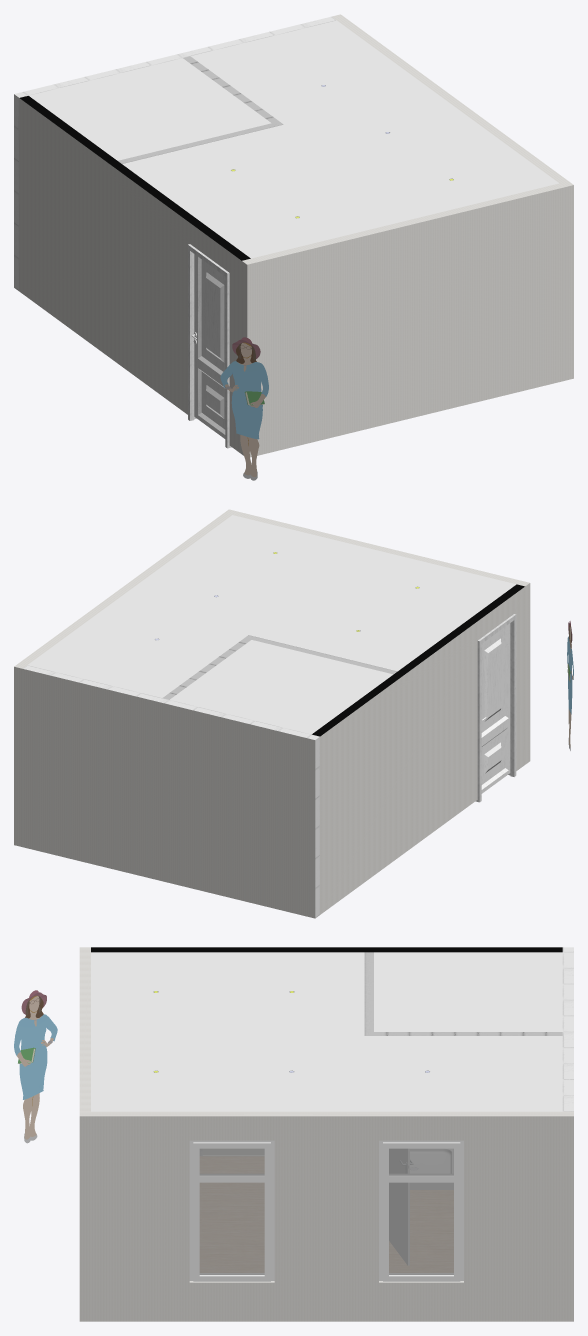
Rendered from studio.glb.
The picture shows the model from 3 angles, top to bottom: view 1: azimuth 30°, elevation 25°; view 2: azimuth 150°, elevation 25°; view 3: azimuth 270°, elevation 25°; orthographic projection. The views are drawn at different scales.
Visible parts, largest first — view 1: Geom3D (×7), Geom3D_ (×3), Geom3D_Cadre_Portes; view 2: Geom3D (×6), Geom3D_ (×3), Geom3D_Cadre_Portes; view 3: Geom3D (×10), Geom3D_ (×5), Geom3D_Fenetre toute hauteur (×2).
Boxes of the visible parts, left/top/right/bottom form: Geom3D (×7): left=19, top=20, right=558, bottom=476; Geom3D_ (×3): left=14, top=14, right=573, bottom=457; Geom3D_Cadre_Portes: left=188, top=244, right=231, bottom=448; Geom3D (×6): left=22, top=515, right=525, bottom=918; Geom3D_ (×3): left=14, top=509, right=530, bottom=918; Geom3D_Cadre_Portes: left=475, top=614, right=516, bottom=802; Geom3D (×10): left=14, top=947, right=562, bottom=1274; Geom3D_ (×5): left=79, top=947, right=573, bottom=1321; Geom3D_Fenetre toute hauteur (×2): left=189, top=1140, right=463, bottom=1281.
Bounding box in the file's own units: 4.72 × 2.46 × 5.94.
81 materials, 31 textured.
